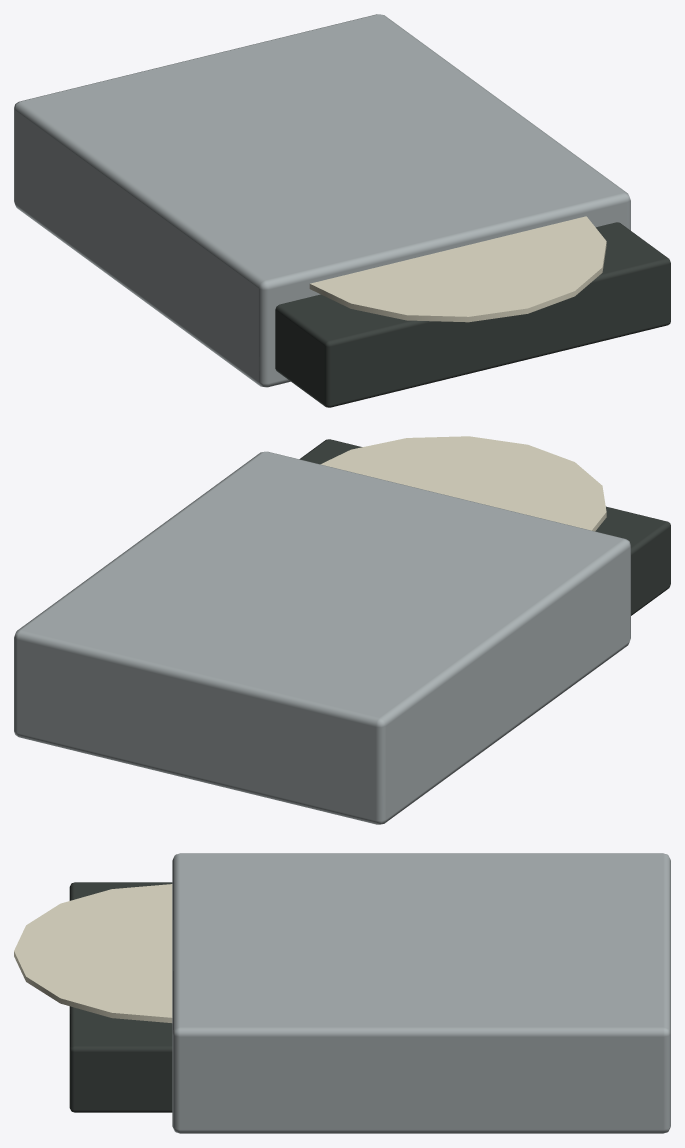
The model's file is scavengers-loot-library-optical-drive-889dcc09__2475.glb.
3 renders of one model, top to bottom at view 1: azimuth 30°, elevation 25°; view 2: azimuth 150°, elevation 25°; view 3: azimuth 270°, elevation 25°, orthographic.
Visible parts, largest first — view 1: optical-drive, tray/dark; view 2: optical-drive, tray/dark; view 3: optical-drive, tray/dark.
Part boxes in pixels (box(x1,y1,x2,y2)): optical-drive: box(14, 14, 630, 387); tray/dark: box(275, 222, 670, 407); optical-drive: box(14, 436, 630, 824); tray/dark: box(299, 439, 670, 615); optical-drive: box(14, 853, 670, 1133); tray/dark: box(69, 882, 172, 1112).
Bounding box in the file's own units: 0.145 × 0.04 × 0.224.
